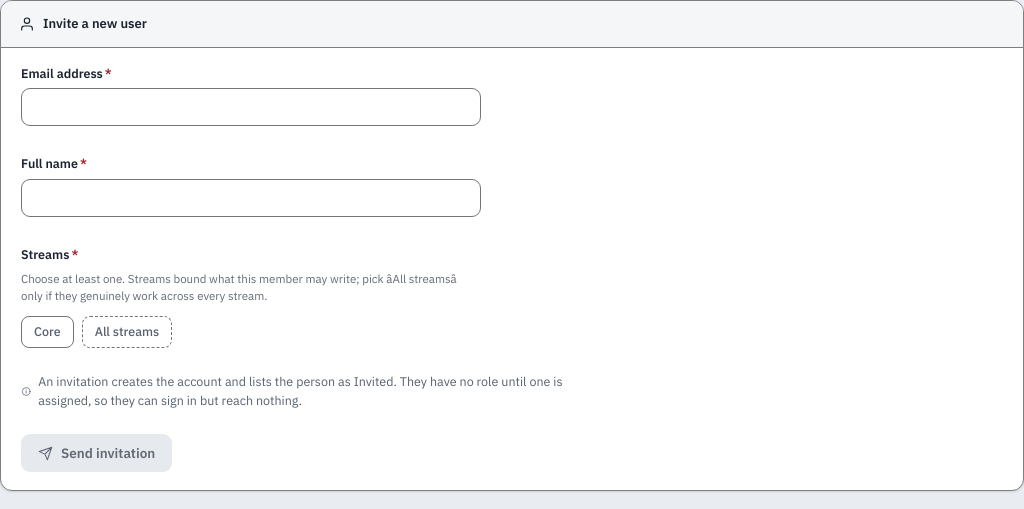
Test: InviteUserPanel (FR-156 / AC-088) › keeps submit disabled until email, name AND a stream are given
The width and height of the screenshot is (1024, 509).
Expected: the button "Send invitation" is disabled, [21,434,172,472]
Type "a@b.com" into the field labelled "Email address*" at (251, 107), box [21,88,481,126]
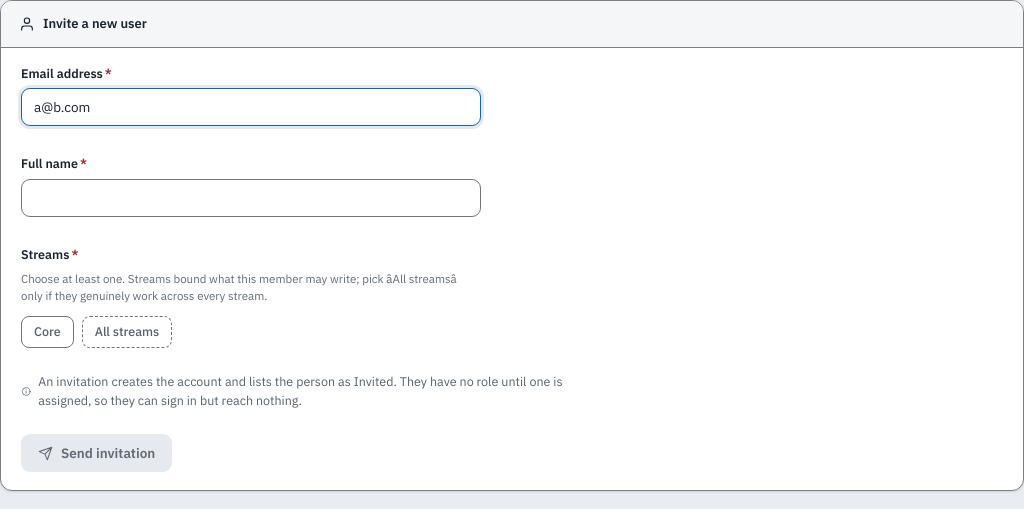
Expected: the button "Send invitation" is disabled, [21,434,172,472]
Type "A B" into the field labelled "Full name*" at (251, 198), box [21,179,481,217]
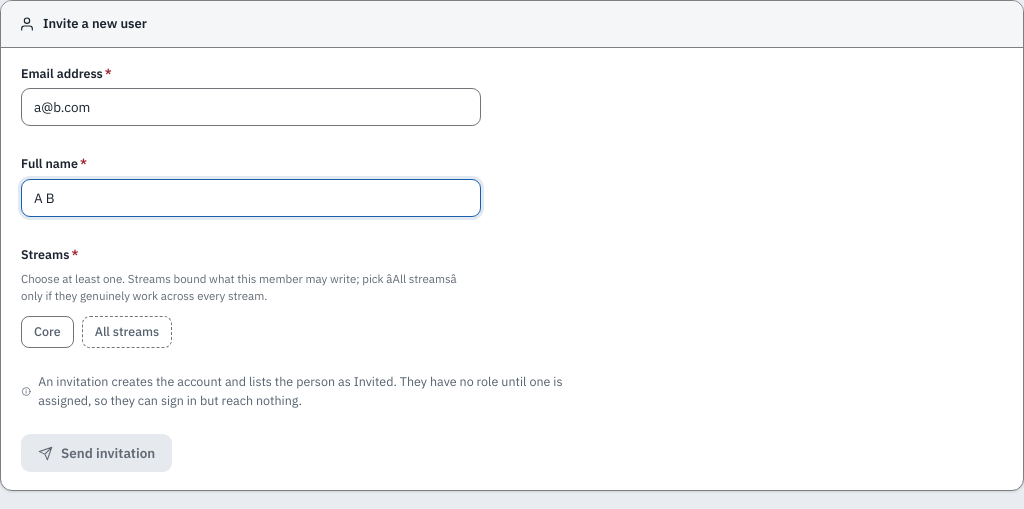
Expected: the button "Send invitation" is disabled, [21,434,172,472]
Click the button "Core" at (47, 332), box [21,316,74,348]
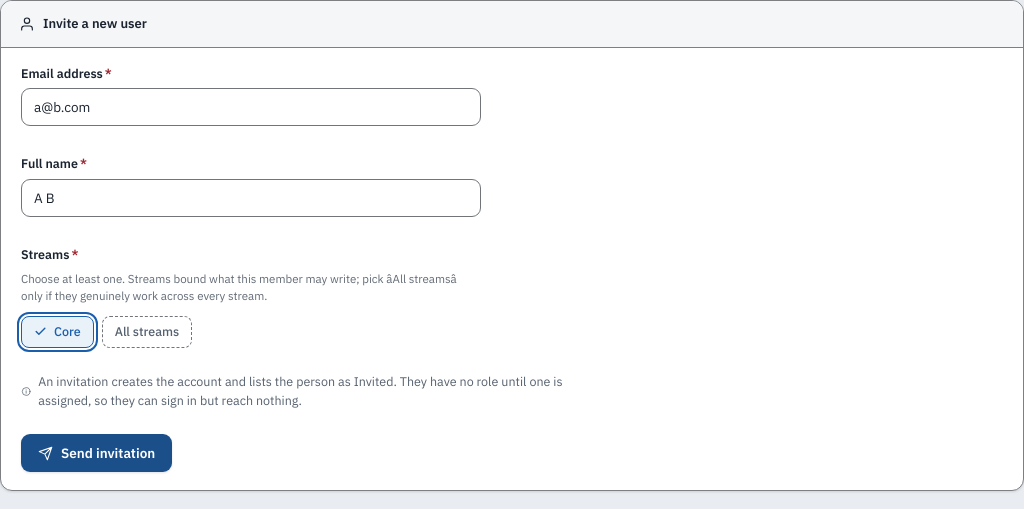
Expected: the button "Send invitation" is enabled, [21,434,172,472]
